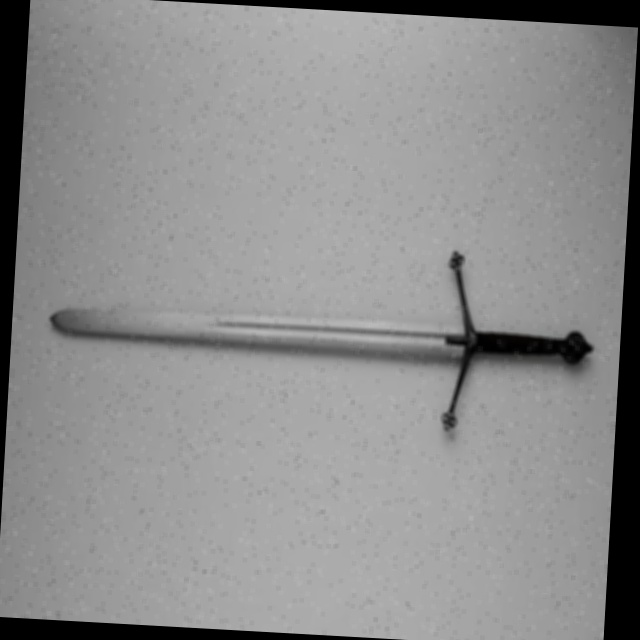Sharp-Object: (40, 293, 603, 388)
